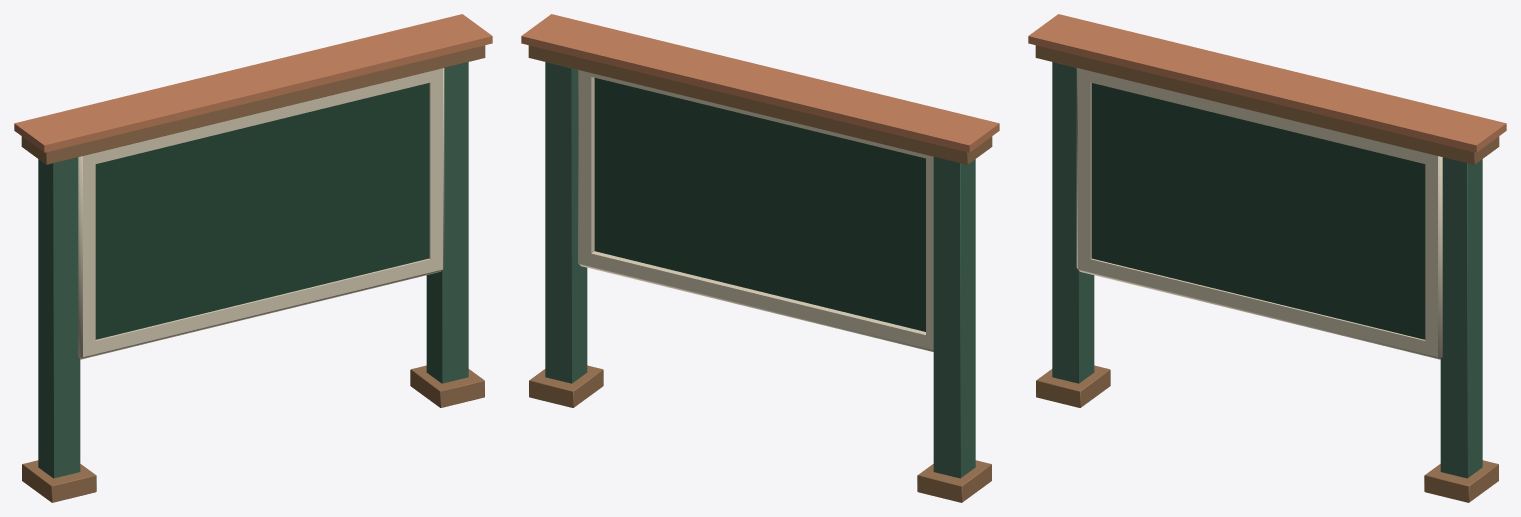
The model's file is maidan-scoreboard.glb.
The picture shows the model from 3 angles, left to right: view 1: azimuth 30°, elevation 25°; view 2: azimuth 150°, elevation 25°; view 3: azimuth 330°, elevation 25°; orthographic projection.
Visible parts, largest first — view 1: Scoreboard; view 2: Scoreboard; view 3: Scoreboard.
Part boxes in pixels (<box>): Scoreboard: <box>14,14,492,502</box>; Scoreboard: <box>521,14,999,502</box>; Scoreboard: <box>1028,14,1506,502</box>.
Bounding box in the file's own units: 3 × 2.3 × 0.35.
